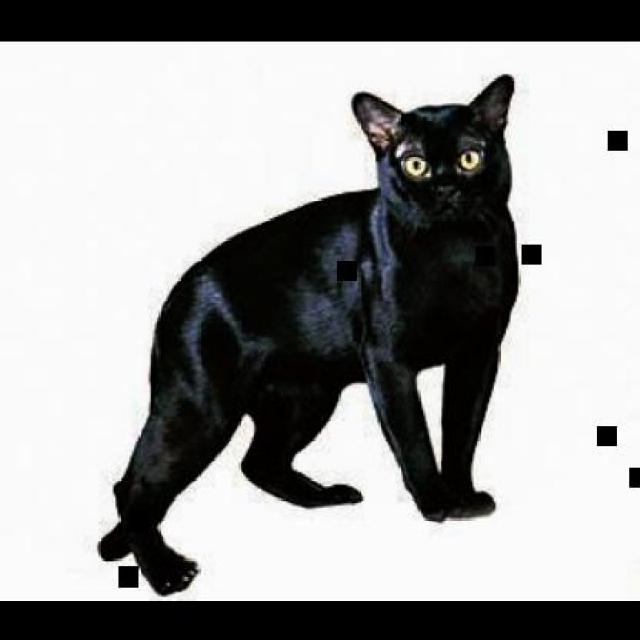unauthorized: (95, 72, 520, 596)
